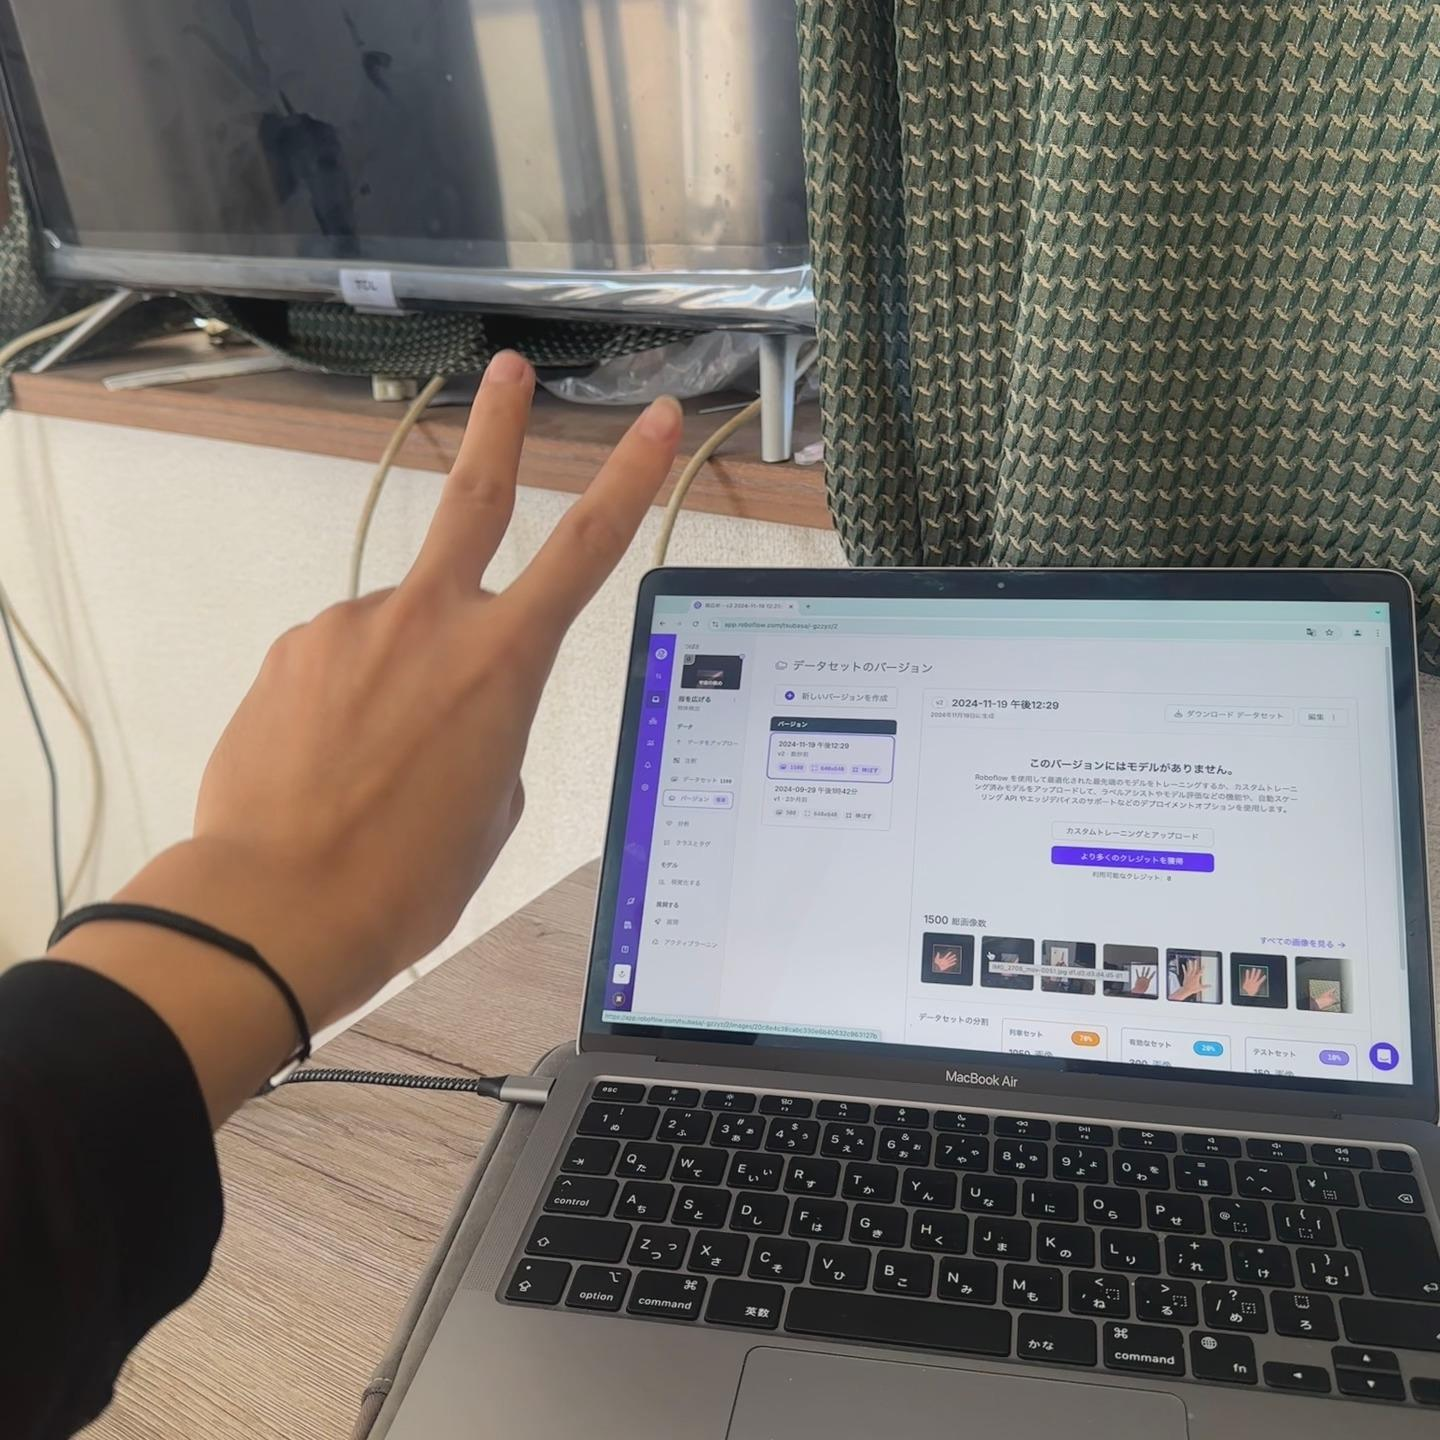without_gloves: (69, 189, 750, 993)
